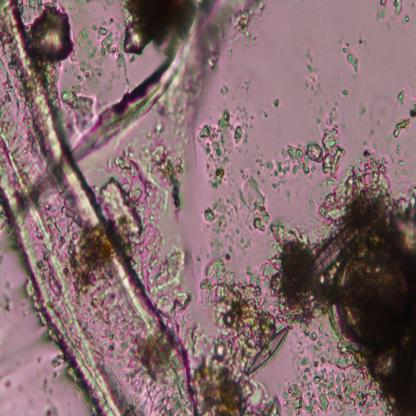Background material: (319, 156, 416, 412), (101, 146, 194, 314), (190, 260, 280, 416), (165, 0, 264, 122), (265, 219, 324, 338), (260, 121, 344, 187), (284, 354, 371, 416), (120, 0, 193, 58), (199, 108, 246, 191), (28, 1, 76, 71), (200, 196, 247, 259), (72, 25, 127, 77), (236, 176, 273, 235), (316, 86, 348, 132), (58, 90, 95, 127), (304, 44, 325, 99), (228, 68, 257, 99), (381, 136, 406, 168), (395, 101, 416, 136), (342, 44, 361, 74), (390, 84, 406, 105), (375, 1, 389, 20), (219, 79, 230, 99), (393, 0, 403, 19), (358, 104, 367, 118), (272, 96, 280, 110)
Cellulose filter fibre: (72, 40, 191, 162)
Diatom: (305, 224, 356, 286), (246, 326, 290, 377)
Microfibre: (0, 1, 197, 415)
